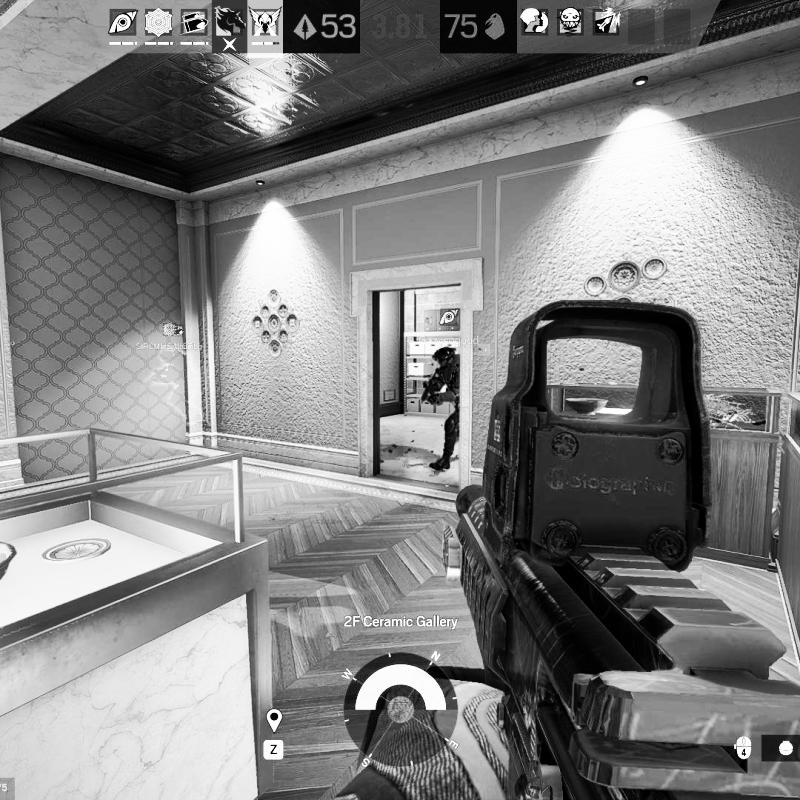Character: (418, 344, 465, 473)
Friend_label: (418, 306, 481, 346), (134, 319, 198, 352), (151, 322, 204, 350)
Head: (432, 346, 458, 368)
